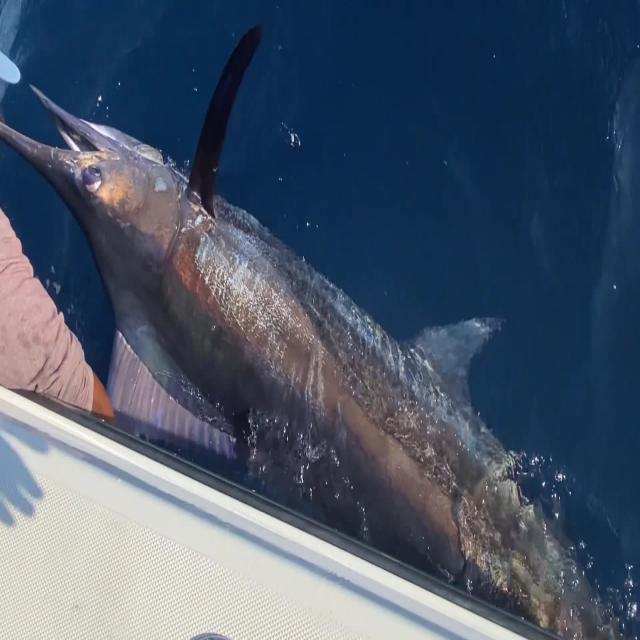Liberacion segura: (1, 22, 624, 640)
